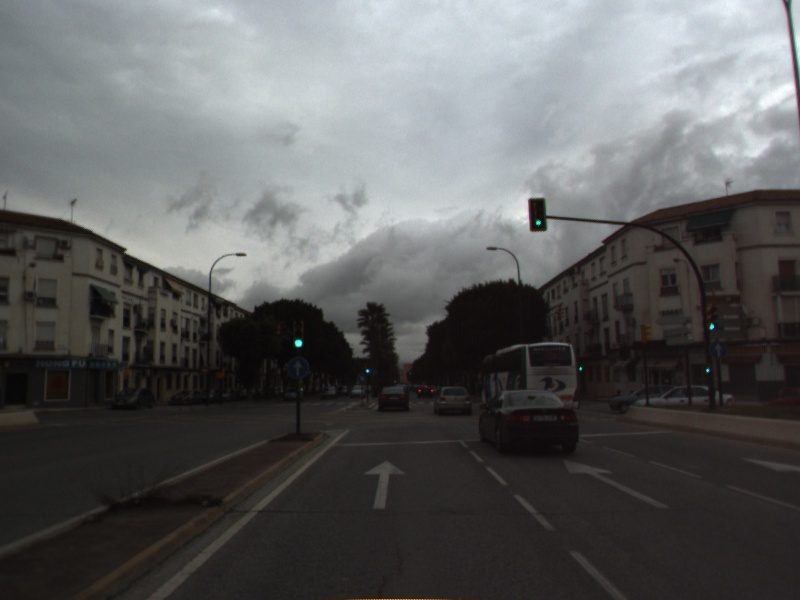STRAIGHT: (561, 457, 673, 511), (362, 458, 408, 511)
